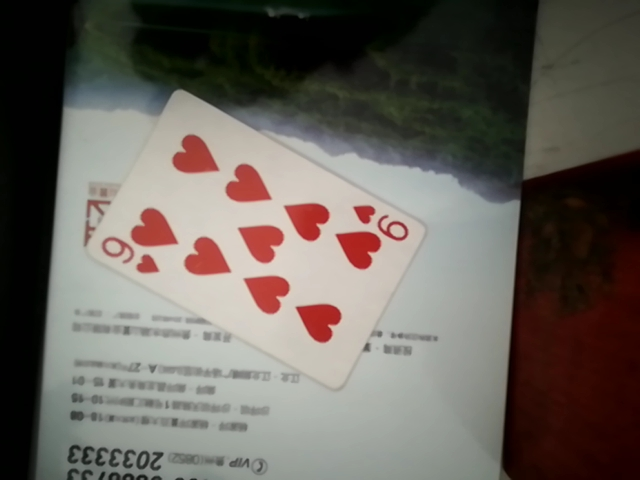hx 9: (73, 97, 424, 379)
